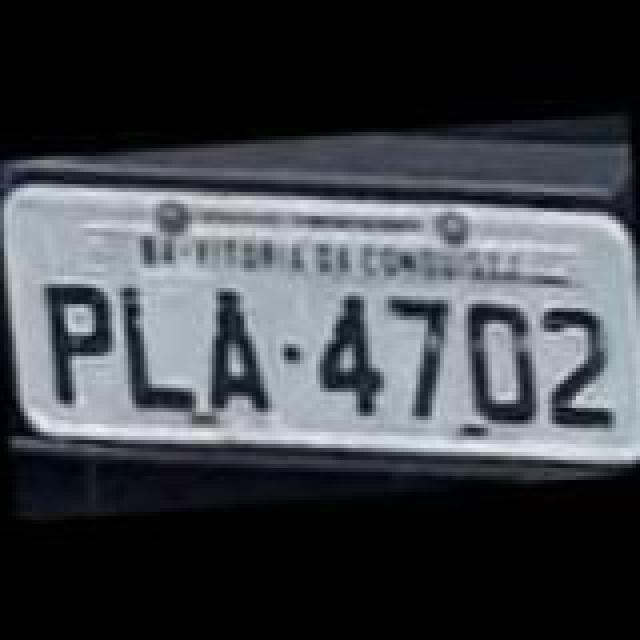2: (534, 302, 622, 434)
4: (304, 290, 388, 426)
7: (384, 286, 468, 426)
A: (198, 282, 278, 422)
L: (116, 276, 208, 416)
O: (456, 292, 540, 432)
P: (40, 278, 116, 410)
